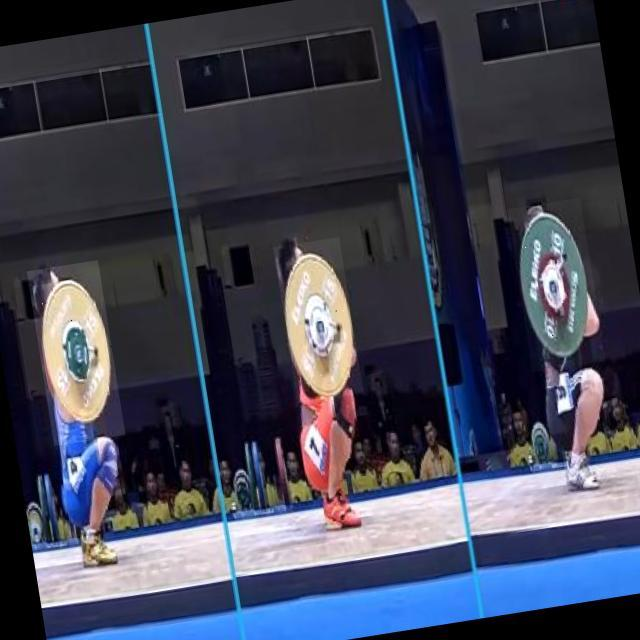barbell: (28, 261, 127, 447), (508, 199, 607, 373), (274, 238, 365, 405)
